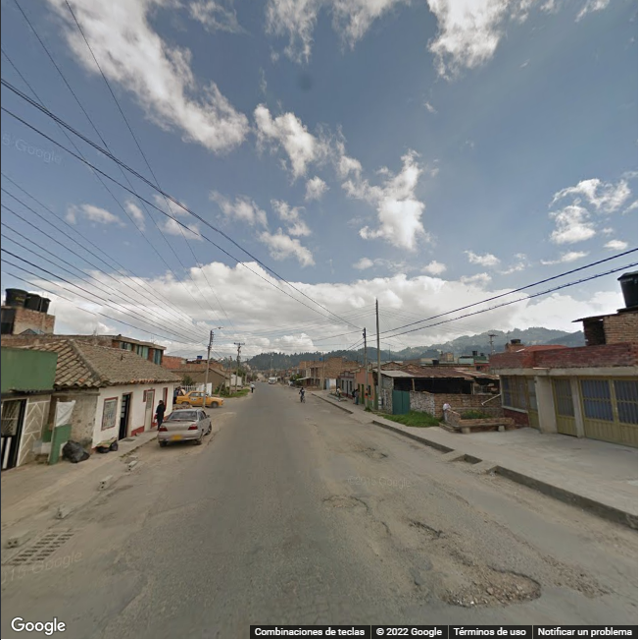D00: (369, 510, 412, 553)
D20: (273, 582, 362, 629)
D40: (452, 564, 540, 613), (320, 489, 375, 514)
